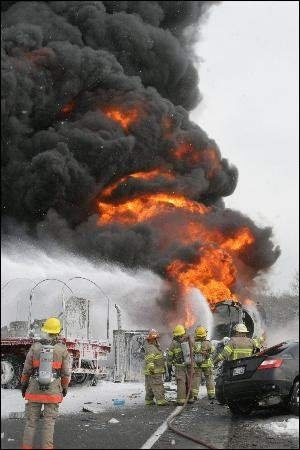fire: (99, 106, 258, 327)
